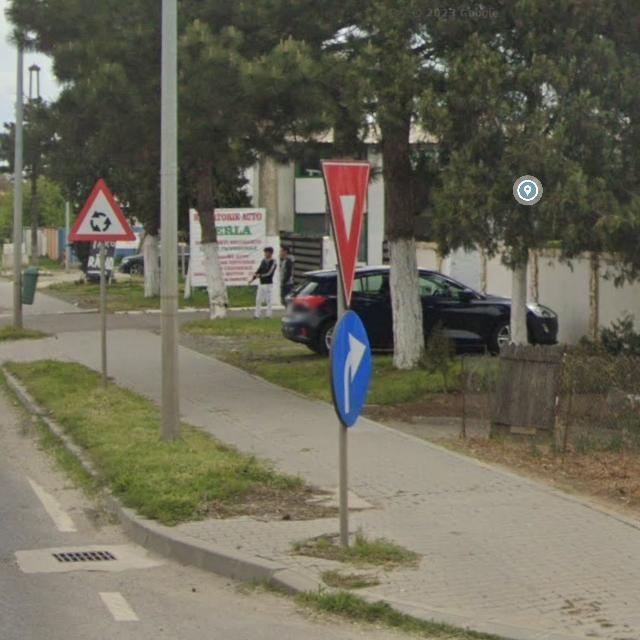prio_give_way: (321, 158, 373, 311)
